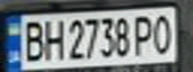2: (63, 16, 84, 61)
3: (97, 15, 118, 58)
7: (81, 15, 100, 60)
8: (112, 14, 133, 57)
B: (18, 17, 48, 63)
H: (39, 16, 66, 62)
O: (148, 10, 178, 56)
P: (130, 11, 157, 57)
